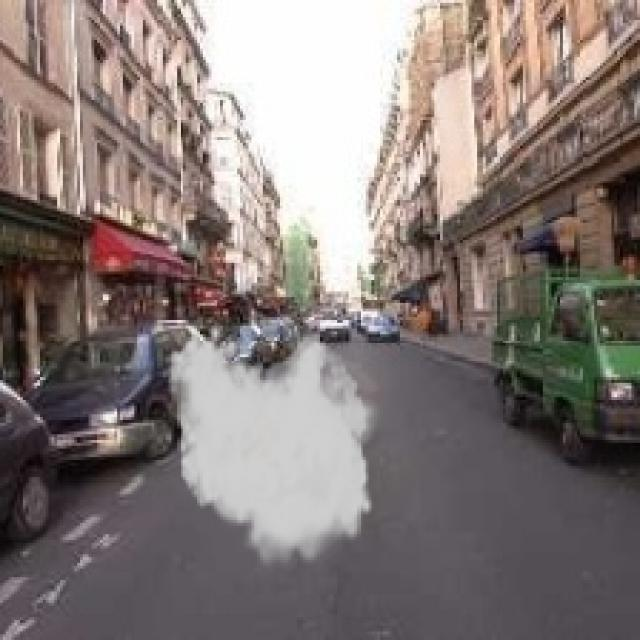Smoke: (166, 323, 386, 574)
